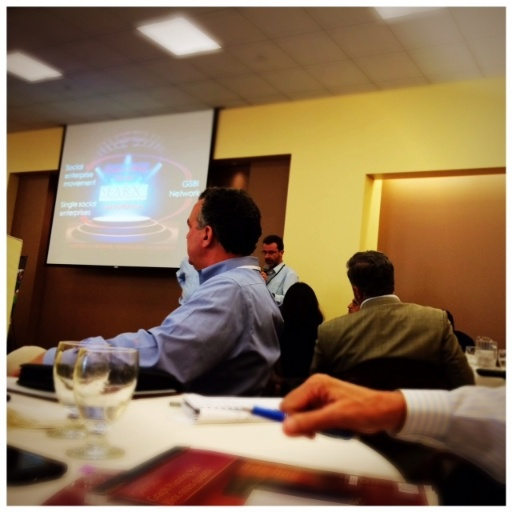hand: (273, 372, 435, 449), (6, 344, 48, 376), (259, 268, 268, 278)
